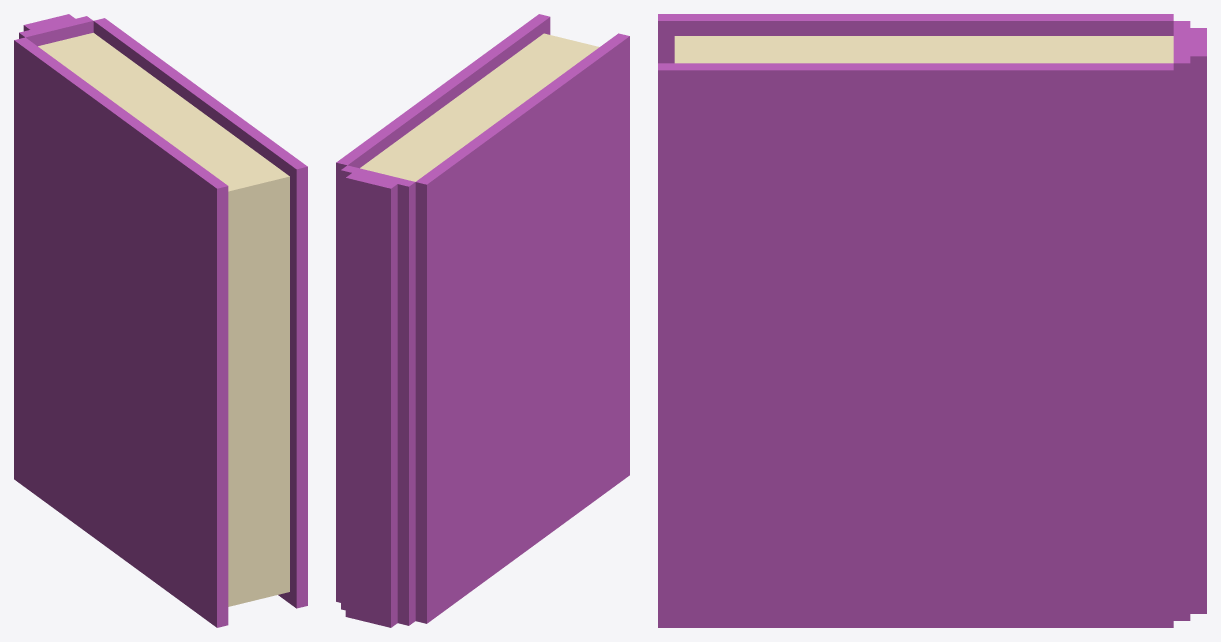
Rendered from Book1.obj.
3 renders of one model, left to right at view 1: azimuth 30°, elevation 25°; view 2: azimuth 150°, elevation 25°; view 3: azimuth 270°, elevation 25°, orthographic. The views are drawn at different scales.
Visible parts, largest first — view 1: Book1; view 2: Book1; view 3: Book1.
Part boxes in pixels (x1,y1,x2,y2): Book1: (14,14,307,627); Book1: (336,14,629,627); Book1: (658,14,1206,627).
Size of the model in its own units: 8 by 37 by 33.
Materials: 1 (1 with a texture image).
